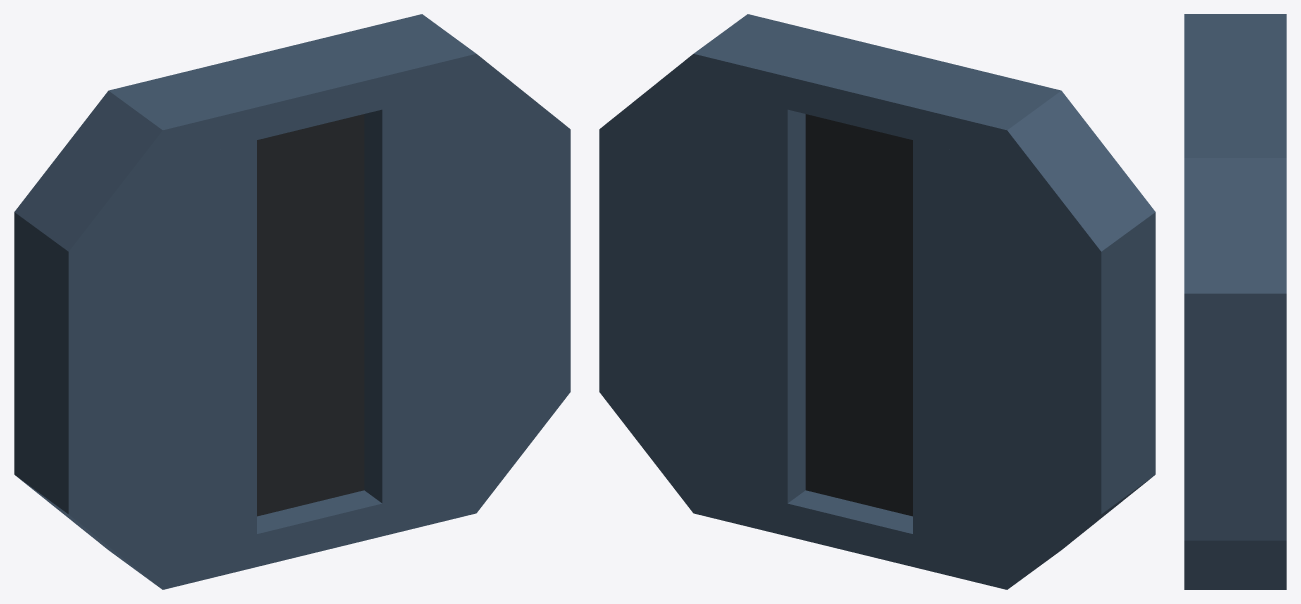
Rendered from screw.fbx.
3 renders of one model, left to right at view 1: azimuth 30°, elevation 25°; view 2: azimuth 150°, elevation 25°; view 3: azimuth 270°, elevation 25°, orthographic. The views are drawn at different scales.
Parts seen in each view (by area): view 1: generated; view 2: generated; view 3: generated.
Boxes of the visible parts, left/top/right/bottom form: generated: left=14, top=14, right=570, bottom=589; generated: left=599, top=14, right=1155, bottom=589; generated: left=1184, top=14, right=1286, bottom=589.
Size of the model in its own units: 160 by 140 by 30.
